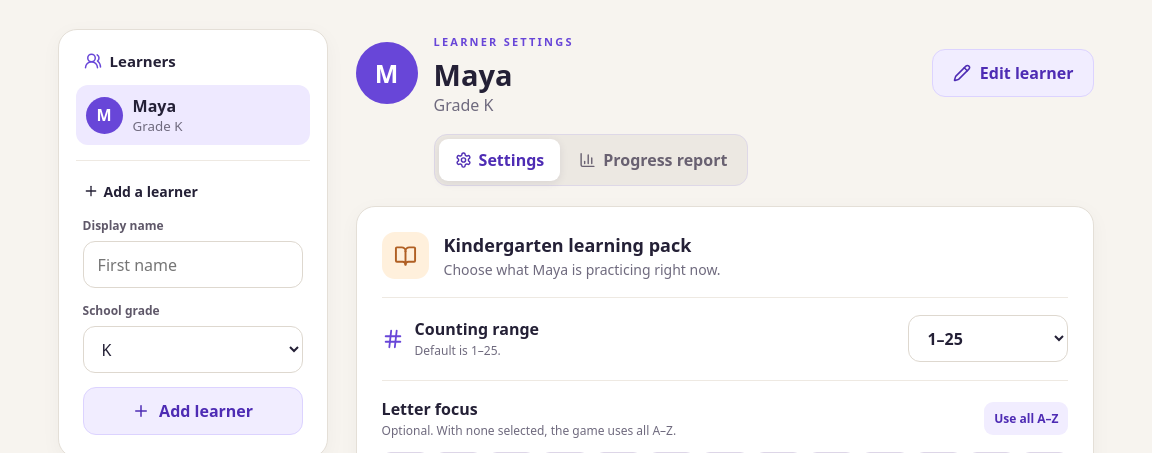
it: Parent Mode Kindergarten settings › stores the counting range, letter focus, and tricky-word term per learner
Select "1–50" in the dropdown named "Counting practice maximum" at (988, 338), box [908,315,1068,362]
(page scrolled)
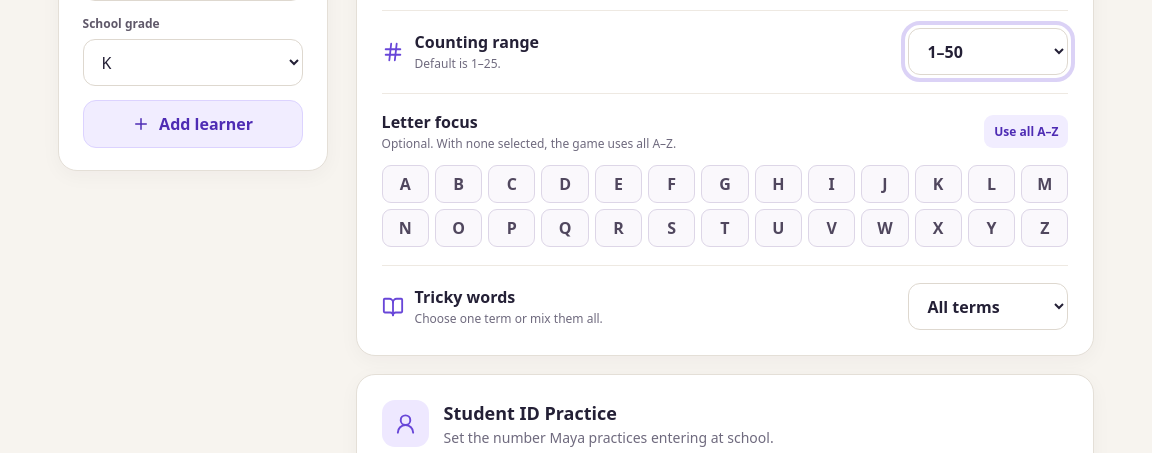
Click the button named "Add letter M" at (1045, 184), box [1021,165,1068,203]
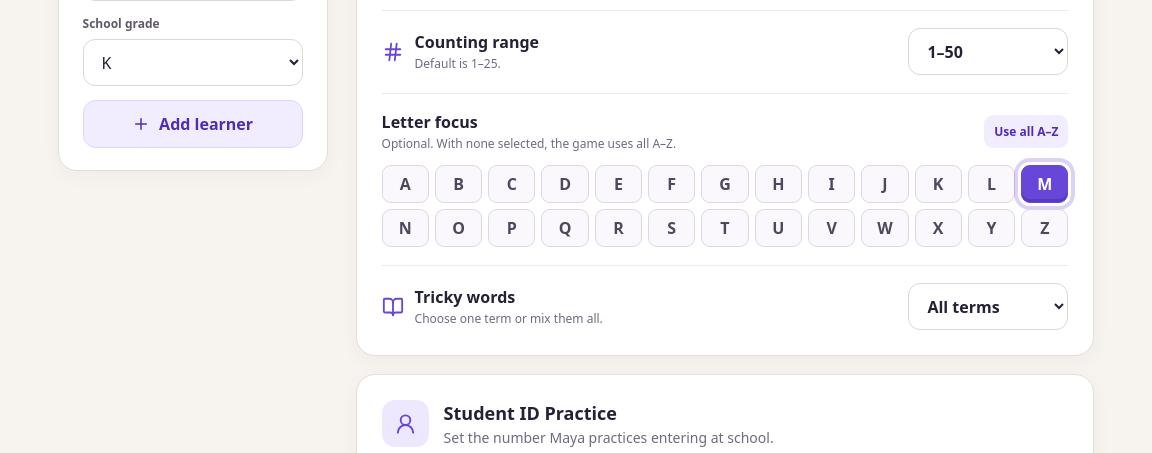
Select "Term 3" in the dropdown named "Tricky word group" in the row of "Choose one term or mix them all." at (988, 306), box [908,283,1068,330]
(page scrolled)
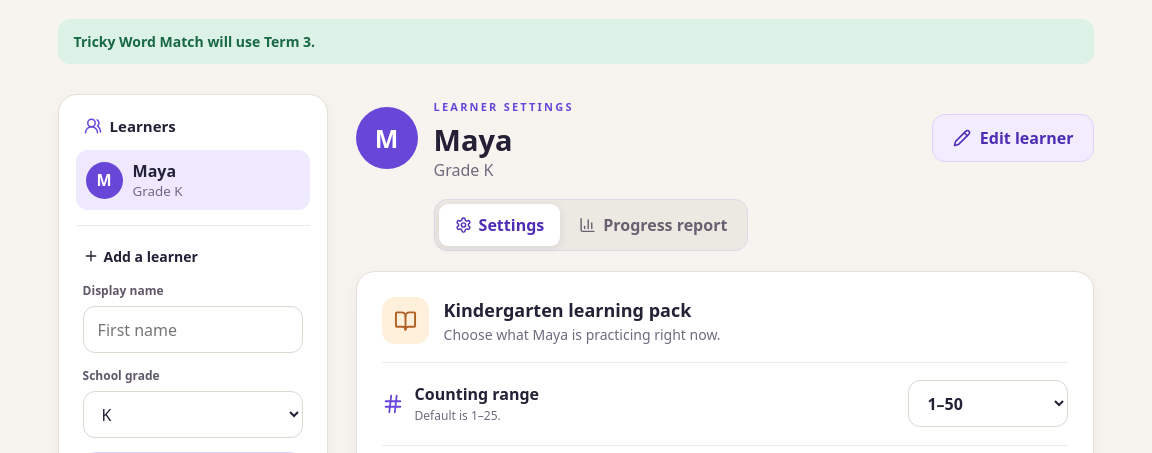
Result: the text "Tricky Word Match will use Term 3." is shown at [58,19,1094,64]
